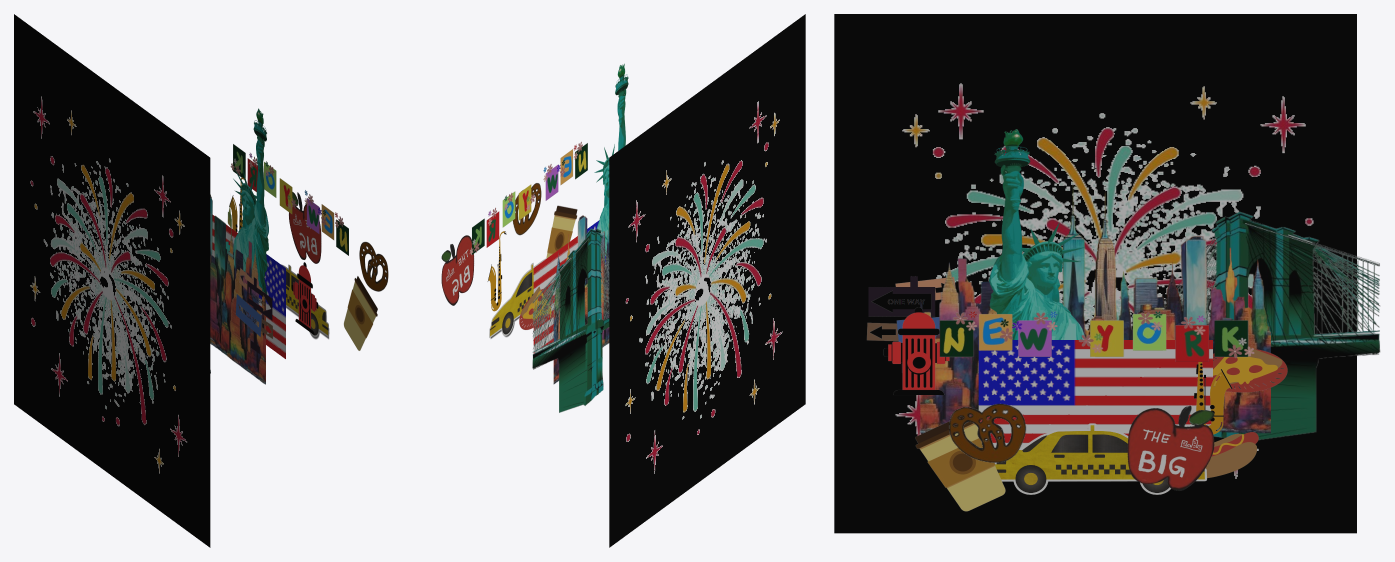
Rendered from NYBestt.glb.
3 renders of one model, left to right at view 1: azimuth 30°, elevation 25°; view 2: azimuth 150°, elevation 25°; view 3: azimuth 270°, elevation 25°, orthographic. The views are drawn at different scales.
Visible parts, largest first — view 1: vatromet-removebg-preview, skyline 3, statueNY, newyork_slova-removebg-preview(1), US Flag, Coffee-best, oneway-removebg-preview, the_big-removebg-preview, vatrogasci-removebg-preview, taxi, pereceNY-removebg-preview; view 2: vatromet-removebg-preview, Brooklyn_Bridge-Best, newyork_slova-removebg-preview(1), skyline 3, US Flag, the_big-removebg-preview, statueNY, taxi, Coffee-best, pizza-removebg-preview, pereceNY-removebg-preview, saksofon-removebg-preview(1); view 3: vatromet-removebg-preview, Brooklyn_Bridge-Best, skyline 3, US Flag, newyork_slova-removebg-preview(1), statueNY, taxi, the_big-removebg-preview, Coffee-best, vatrogasci-removebg-preview, pereceNY-removebg-preview, oneway-removebg-preview (+3 smaller).
Boxes of the visible parts, x1=… form: vatromet-removebg-preview: x1=14, y1=14, x2=210, y2=547; skyline 3: x1=210, y1=194, x2=265, y2=384; statueNY: x1=225, y1=108, x2=268, y2=294; newyork_slova-removebg-preview(1): x1=230, y1=144, x2=348, y2=255; US Flag: x1=212, y1=214, x2=285, y2=358; Coffee-best: x1=344, y1=276, x2=377, y2=350; oneway-removebg-preview: x1=235, y1=268, x2=272, y2=353; the_big-removebg-preview: x1=289, y1=192, x2=321, y2=263; vatrogasci-removebg-preview: x1=291, y1=262, x2=318, y2=335; taxi: x1=281, y1=264, x2=329, y2=338; pereceNY-removebg-preview: x1=359, y1=241, x2=388, y2=291; vatromet-removebg-preview: x1=609, y1=14, x2=805, y2=547; Brooklyn_Bridge-Best: x1=532, y1=228, x2=609, y2=412; newyork_slova-removebg-preview(1): x1=469, y1=141, x2=587, y2=254; skyline 3: x1=553, y1=215, x2=609, y2=384; US Flag: x1=533, y1=220, x2=605, y2=353; the_big-removebg-preview: x1=441, y1=235, x2=474, y2=305; statueNY: x1=594, y1=63, x2=628, y2=255; taxi: x1=489, y1=258, x2=546, y2=338; Coffee-best: x1=546, y1=205, x2=577, y2=258; pizza-removebg-preview: x1=519, y1=286, x2=552, y2=329; pereceNY-removebg-preview: x1=513, y1=183, x2=541, y2=235; saksofon-removebg-preview(1): x1=487, y1=231, x2=506, y2=311; vatromet-removebg-preview: x1=834, y1=14, x2=1356, y2=533; Brooklyn_Bridge-Best: x1=1164, y1=211, x2=1380, y2=439; skyline 3: x1=920, y1=185, x2=1270, y2=433; US Flag: x1=978, y1=340, x2=1212, y2=448; newyork_slova-removebg-preview(1): x1=939, y1=311, x2=1254, y2=361; statueNY: x1=989, y1=129, x2=1085, y2=339; taxi: x1=995, y1=423, x2=1206, y2=497; the_big-removebg-preview: x1=1127, y1=405, x2=1214, y2=490; Coffee-best: x1=915, y1=415, x2=1005, y2=511; vatrogasci-removebg-preview: x1=883, y1=307, x2=952, y2=394; pereceNY-removebg-preview: x1=949, y1=403, x2=1025, y2=462; oneway-removebg-preview: x1=866, y1=276, x2=955, y2=372.
Size of the model in its own units: 3.7 by 6.23 by 5.94.
Materials: 15 (15 with a texture image).
